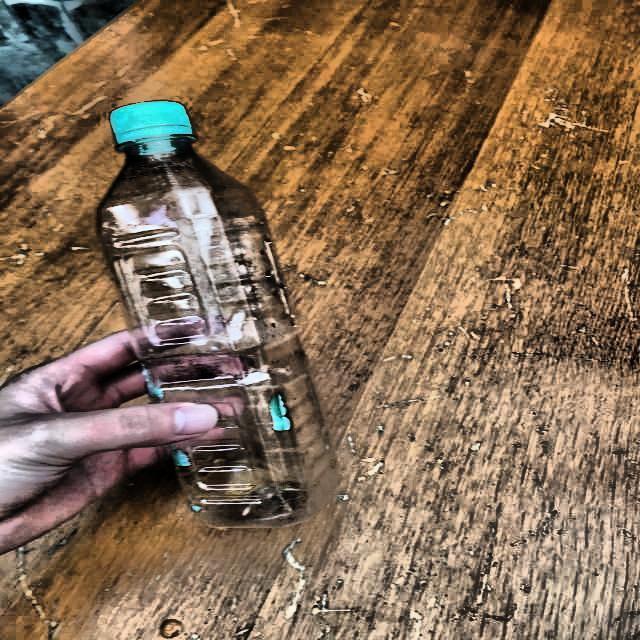plastic bottle: (98, 101, 335, 528)
